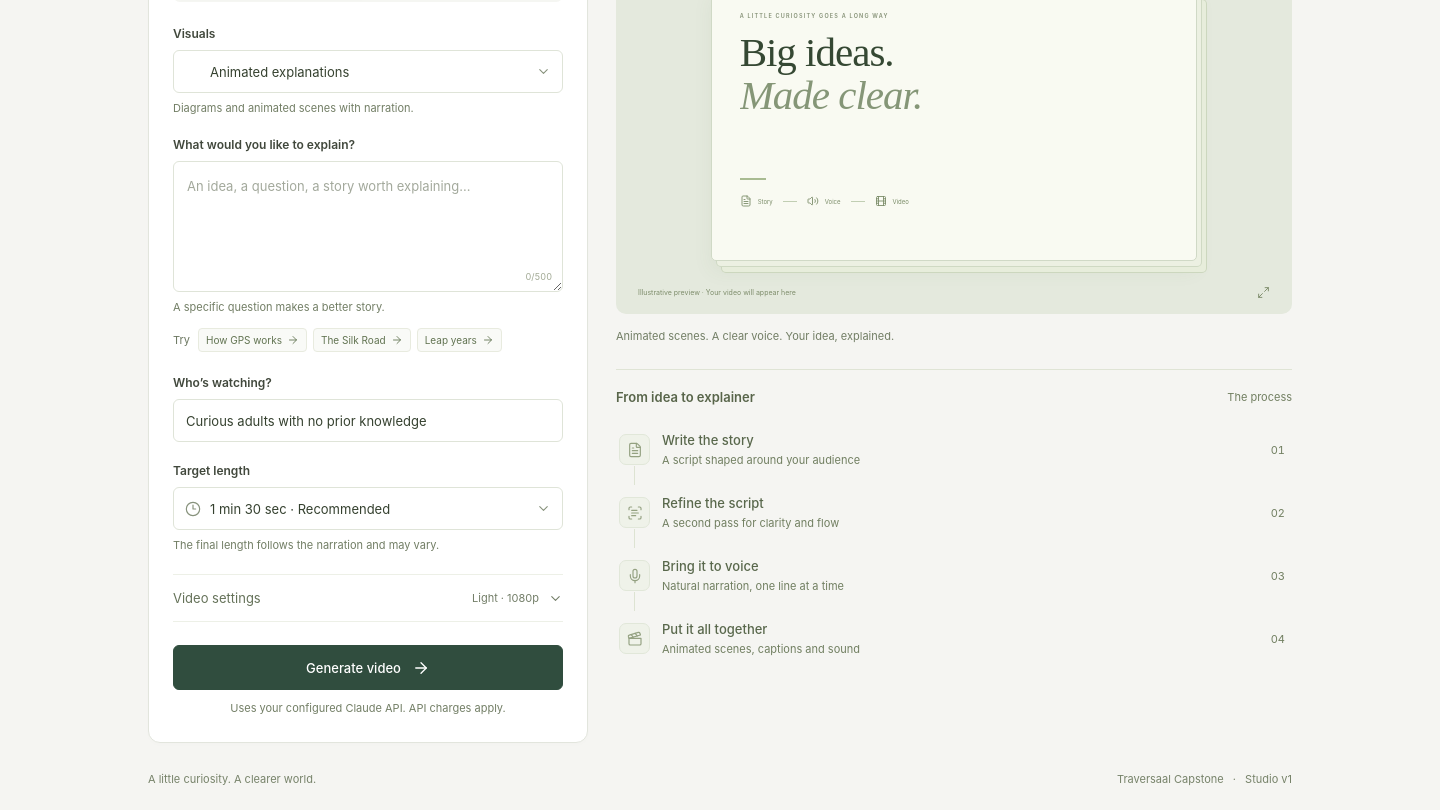
Test: Studio workflow › rejects an empty brief before creating a task and focuses the problem
The width and height of the screenshot is (1440, 810).
(page scrolled)
Click the button "Generate video": {"x": 368, "y": 668} [173,645,563,690]
(page scrolled)
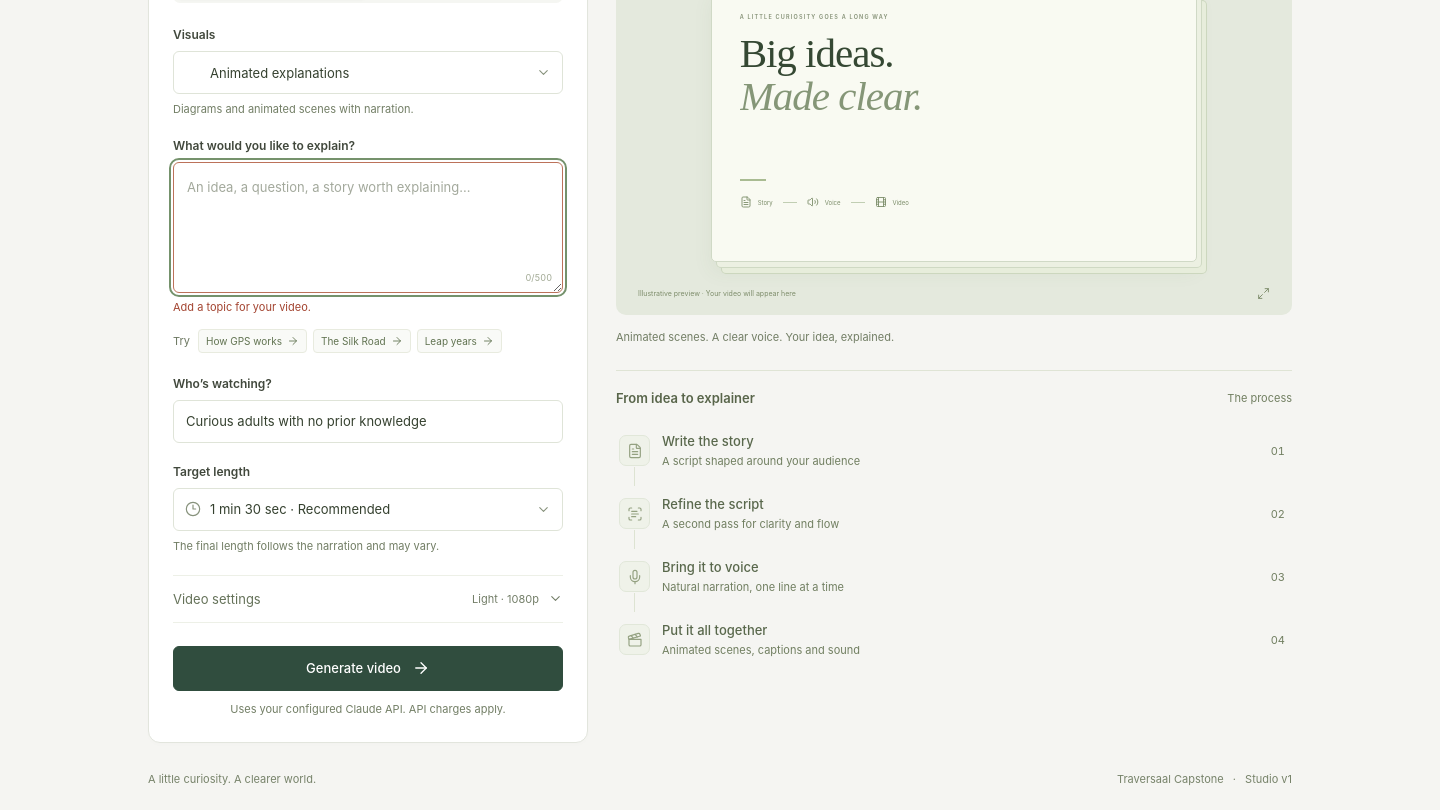
Now the text "Add a topic for your video." is shown, box [173,300,311,314]
